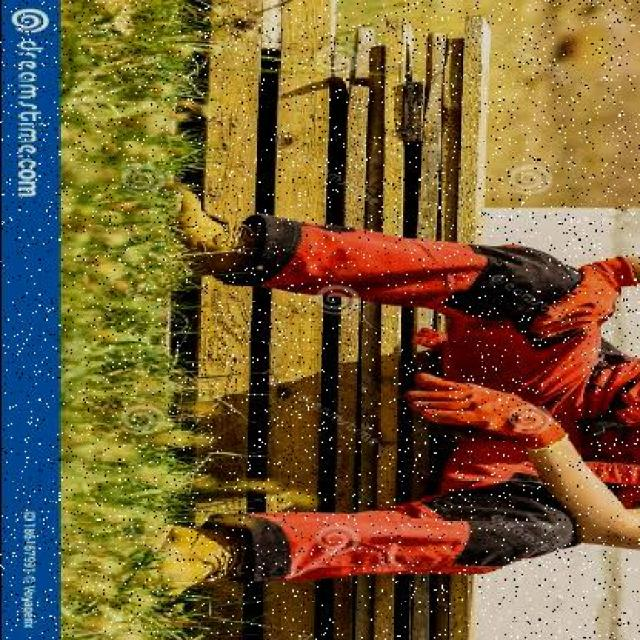shoes: (162, 190, 263, 282), (142, 519, 248, 603)
